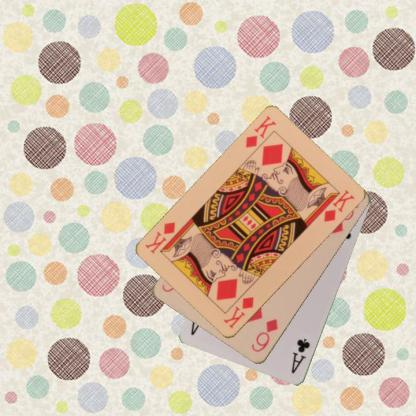6d: (248, 316, 280, 354)
Ac: (289, 336, 311, 375)
Kd: (220, 294, 256, 331), (243, 112, 277, 150)
